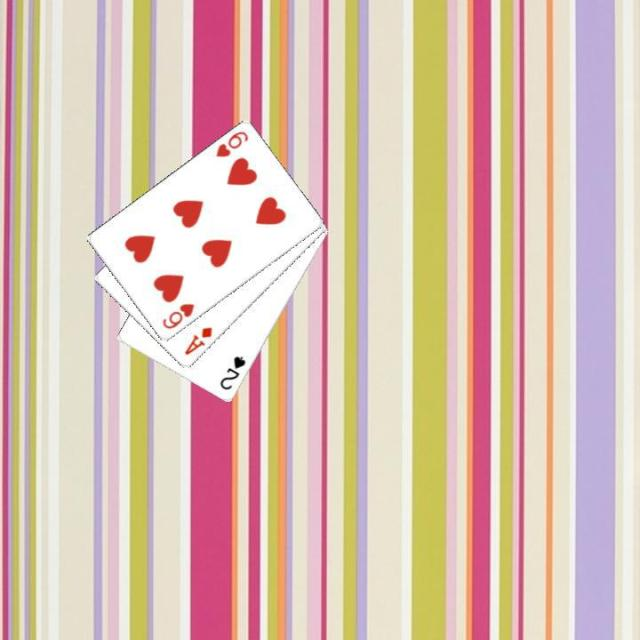2S: (216, 352, 247, 392)
6H: (158, 300, 196, 332), (212, 127, 250, 159)
AD: (180, 323, 214, 358)
